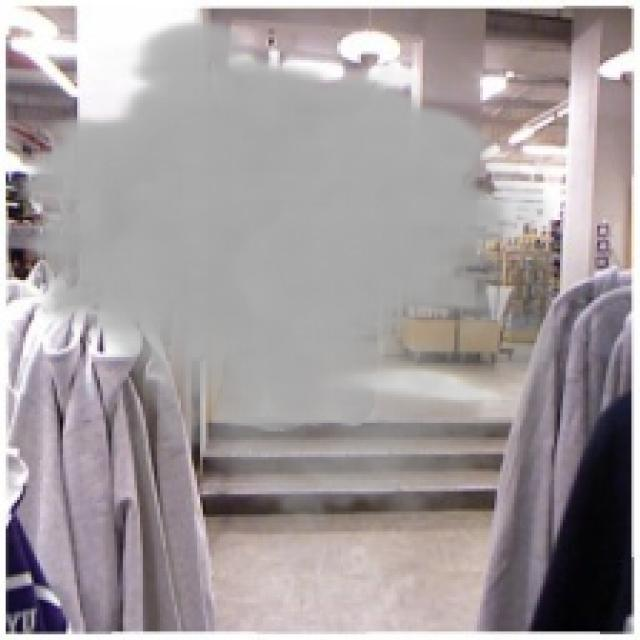Smoke: (12, 14, 554, 546)
